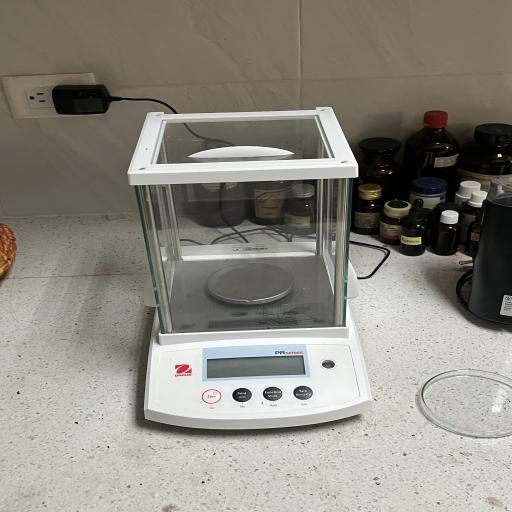Balanza_Analitica_Ohaus: (115, 102, 382, 443)
